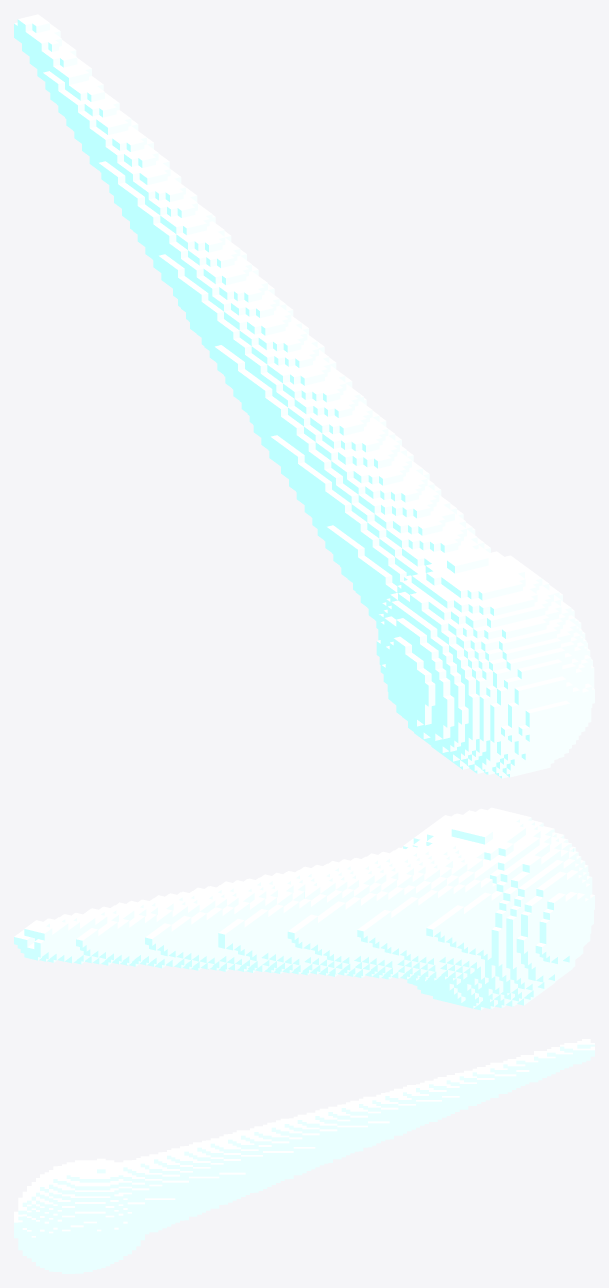
The model's file is ice.gltf.
The picture shows the model from 3 angles, top to bottom: view 1: azimuth 30°, elevation 25°; view 2: azimuth 150°, elevation 25°; view 3: azimuth 270°, elevation 25°; orthographic projection. The views are drawn at different scales.
Parts seen in each view (by area): view 1: 激光.1; view 2: 激光.1; view 3: 激光.1.
Boxes of the visible parts, x1,y1,x2,y2 form: 激光.1: (14,14,594,778); 激光.1: (14,807,594,1010); 激光.1: (14,1039,594,1273).
Size of the model in its own units: 2.88 by 6.72 by 15.96.
